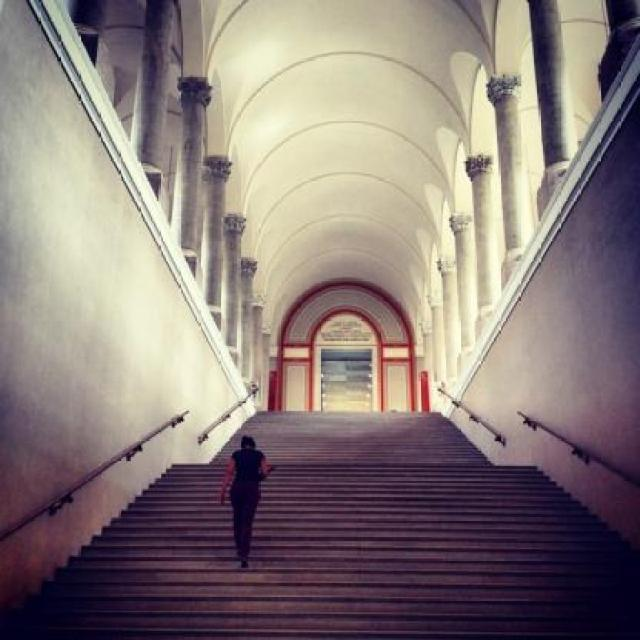stair: (0, 410, 638, 638)
